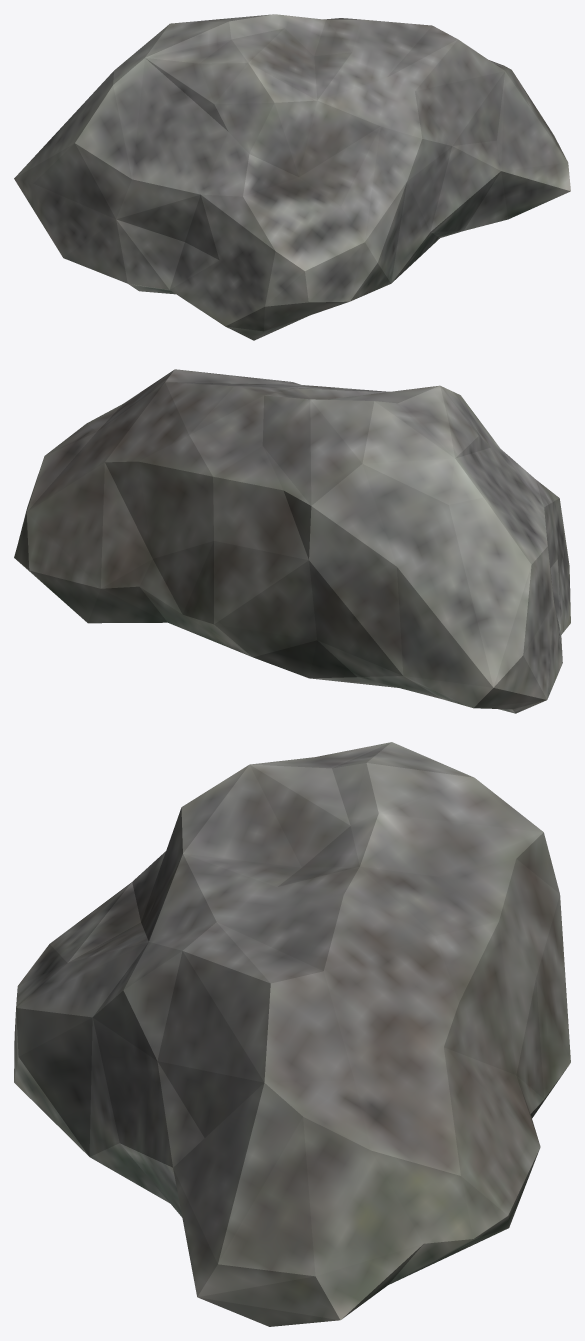
The model's file is rock_05.obj.
3 renders of one model, top to bottom at view 1: azimuth 30°, elevation 25°; view 2: azimuth 150°, elevation 25°; view 3: azimuth 270°, elevation 25°, orthographic. The views are drawn at different scales.
Bounding box in the file's own units: 0.1213 × 0.0602 × 0.0795.
1 material, 1 textured.
